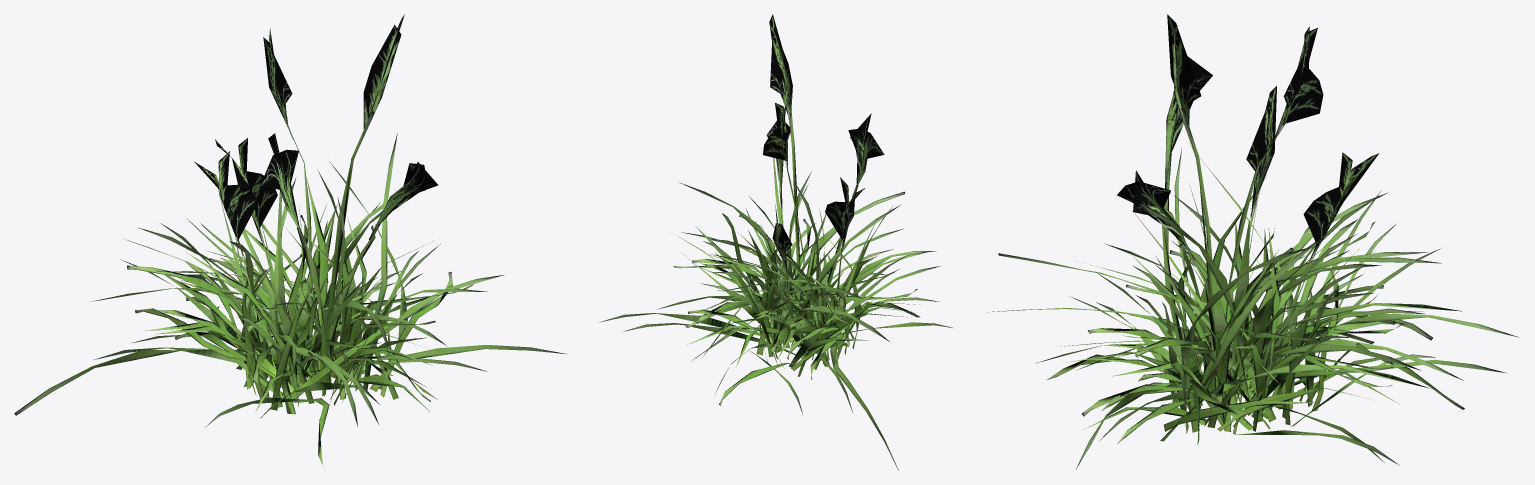
Rendered from grass_tuft.glb.
3 renders of one model, left to right at view 1: azimuth 30°, elevation 25°; view 2: azimuth 150°, elevation 25°; view 3: azimuth 270°, elevation 25°, orthographic. The views are drawn at different scales.
Visible parts, largest first — view 1: grass_medium_01_mid_a_LOD0; view 2: grass_medium_01_mid_a_LOD0; view 3: grass_medium_01_mid_a_LOD0.
Boxes of the visible parts, box(x1,y1,x2,y2) form: grass_medium_01_mid_a_LOD0: box(14, 14, 567, 466); grass_medium_01_mid_a_LOD0: box(600, 14, 952, 470); grass_medium_01_mid_a_LOD0: box(987, 14, 1518, 469).
Bounding box in the file's own units: 0.4456 × 0.45 × 0.4575.
1 material, 1 textured.
